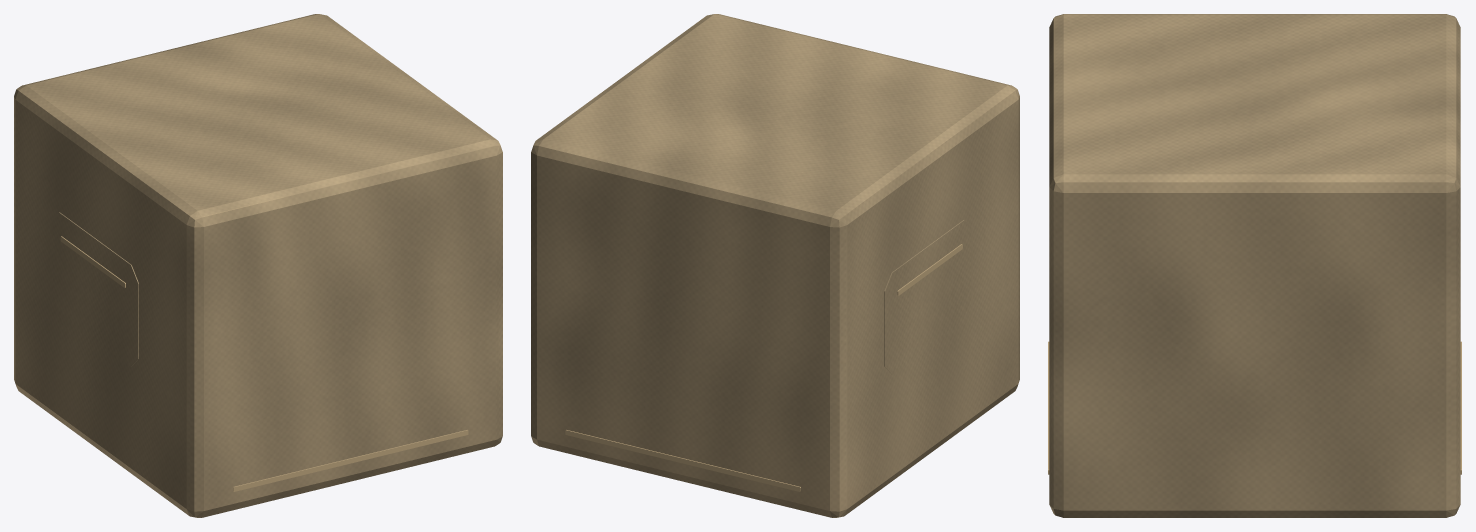
File: 04_Manche_RightUpperArm.fbx
3 views of the same model, side by side, from view 1: azimuth 30°, elevation 25°; view 2: azimuth 150°, elevation 25°; view 3: azimuth 270°, elevation 25° (orthographic). The views are drawn at different scales.
Visible parts, largest first — view 1: 04_Manche_RightUpperArm; view 2: 04_Manche_RightUpperArm; view 3: 04_Manche_RightUpperArm.
Part boxes in pixels (left/top/right/bottom): 04_Manche_RightUpperArm: left=14, top=14, right=502, bottom=517; 04_Manche_RightUpperArm: left=531, top=14, right=1019, bottom=517; 04_Manche_RightUpperArm: left=1048, top=14, right=1461, bottom=517.
Bounding box in the file's own units: 1.04 × 0.959 × 1.05.
1 material, 1 textured.
